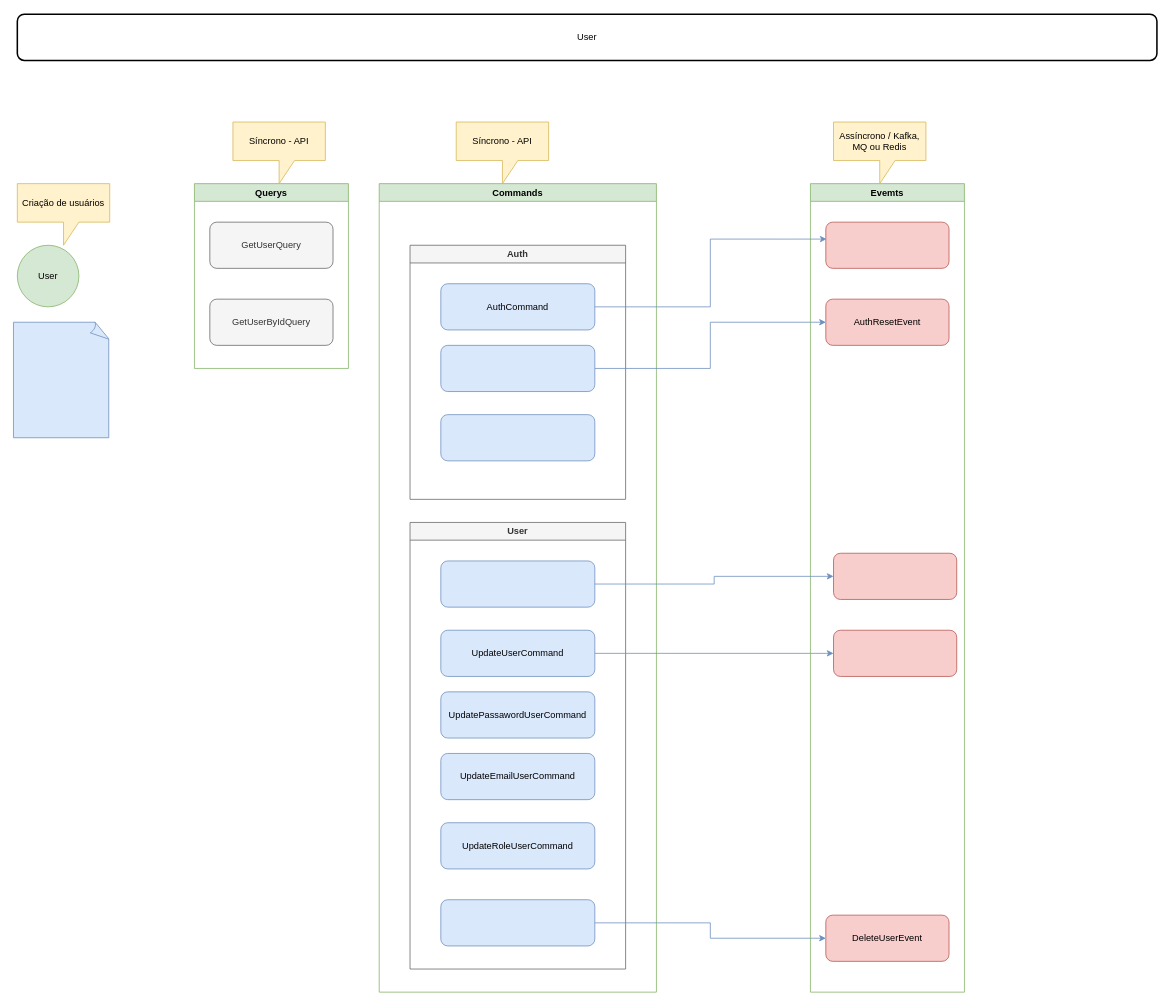
Image size: 1171x1006. Some labels were removed from this diagram. Each missing label, with the centre of its shape:
"AuthEvent" goes at point (887, 244).
"AuthNewPassawordCommand" goes at point (517, 437).
"AuthResetPassawordCommand" goes at point (517, 368).
"CreateUserCommand" goes at point (517, 583).
"CreateUserEvent" goes at point (895, 575).
"DeleteUserCommand" goes at point (517, 922).
"UpdateUserEvent" goes at point (895, 652).
"User Aggregate FirstName LastName Username Passowrd" goes at point (61, 379).
